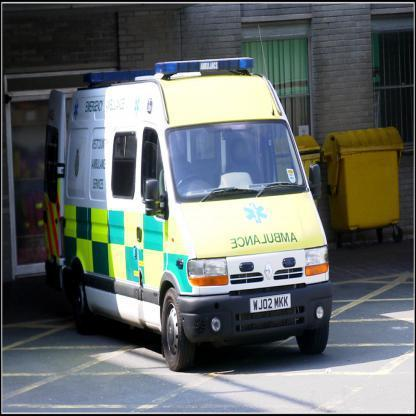Ambulance - v1 Ambulance last generate: (42, 26, 334, 372)
